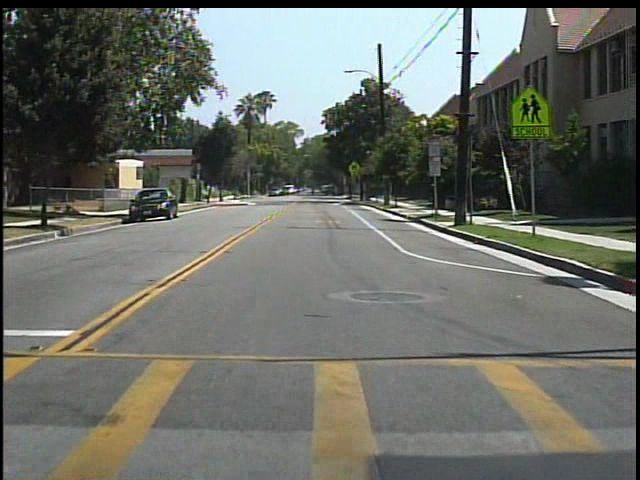person: (306, 183, 320, 200)
